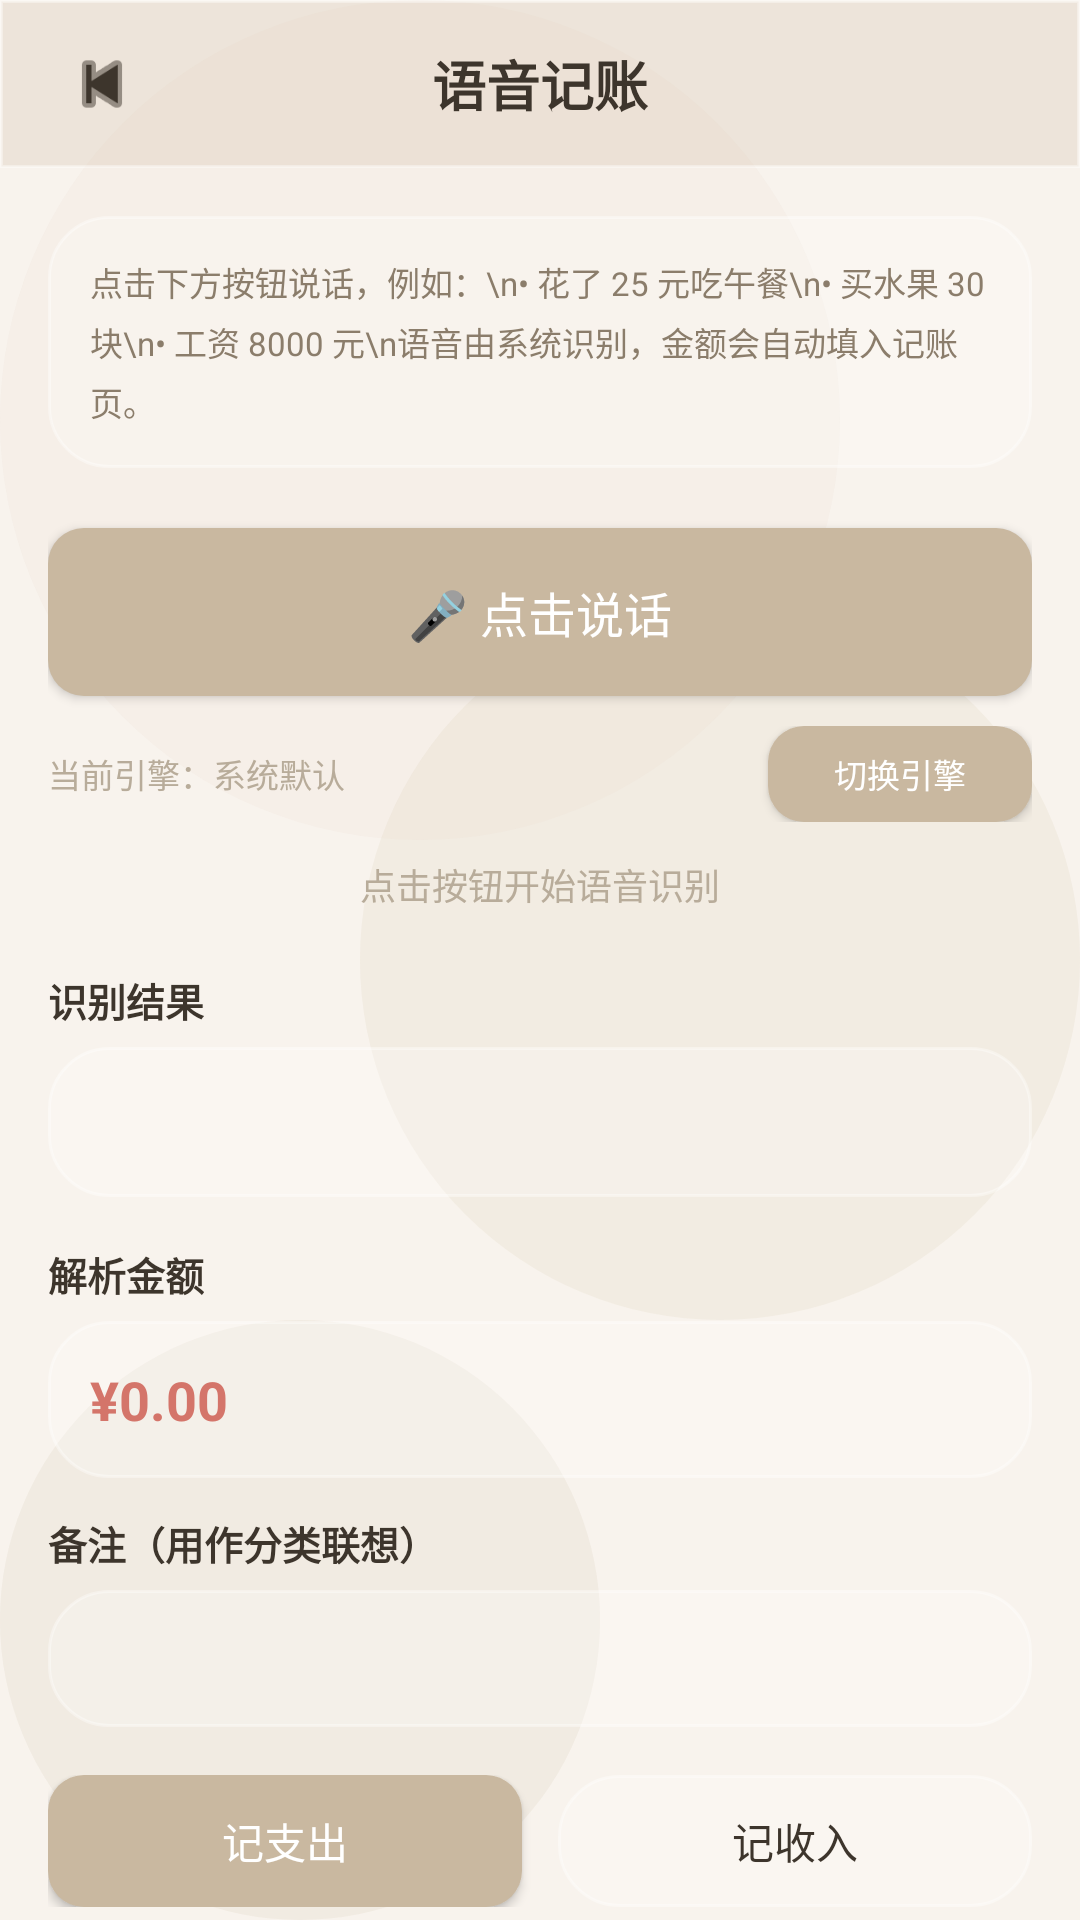

Icons on this 1080px×1920px Android screen, each with the point to tap as (x=x, y=y):
previous: (x=102, y=84)
